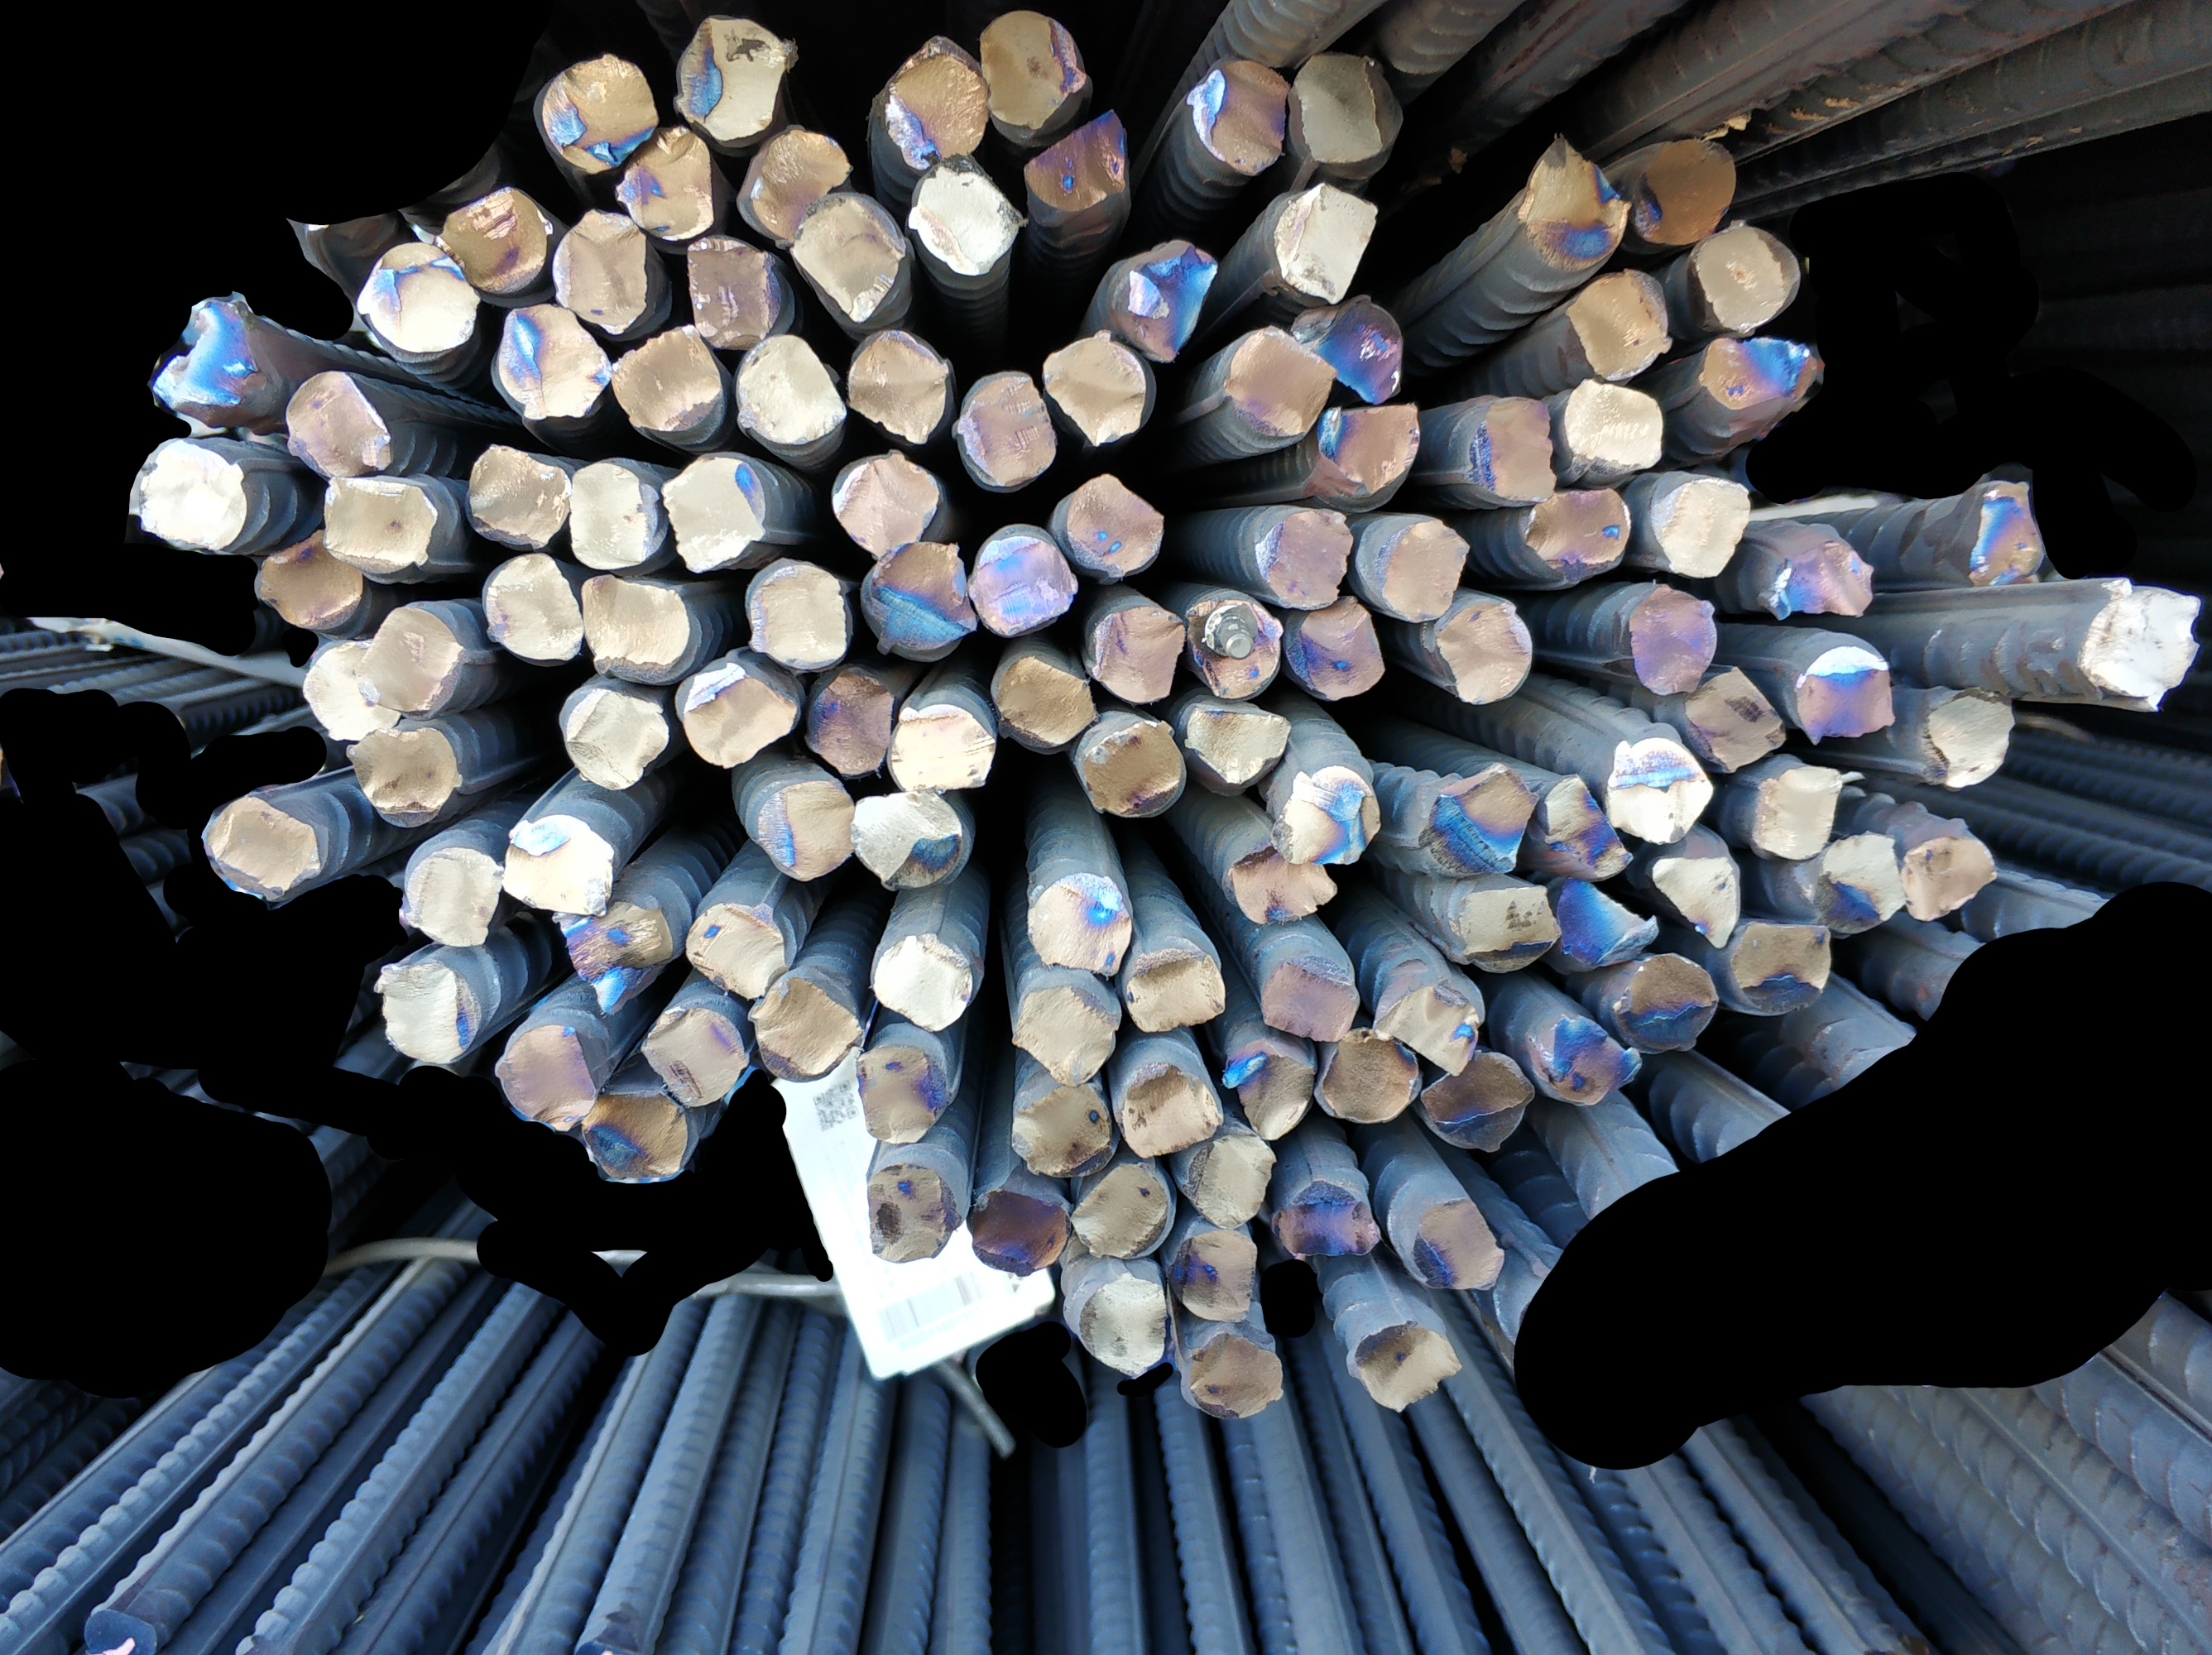rebar: (148, 283, 278, 419), (1519, 127, 1635, 276), (785, 189, 905, 325), (353, 240, 485, 362), (539, 50, 662, 177), (130, 436, 255, 560), (911, 155, 1027, 287), (2080, 579, 2200, 706), (653, 450, 773, 575), (198, 789, 325, 906), (1289, 40, 1406, 167), (977, 5, 1089, 134), (549, 200, 657, 334), (679, 655, 798, 777), (554, 894, 671, 1017), (1265, 177, 1380, 302), (884, 33, 987, 170), (495, 299, 610, 421), (1286, 289, 1407, 403), (954, 365, 1062, 494), (836, 323, 949, 445), (1112, 240, 1218, 369), (349, 600, 466, 716), (1039, 327, 1149, 450), (606, 322, 723, 436), (754, 967, 865, 1087), (848, 789, 970, 899), (679, 16, 787, 139), (1222, 322, 1333, 440), (613, 122, 721, 243), (1628, 130, 1741, 245), (579, 567, 695, 678), (370, 958, 488, 1067), (867, 537, 977, 655), (1025, 108, 1138, 221), (1694, 224, 1809, 336), (1432, 593, 1543, 708), (1425, 763, 1534, 880), (1192, 56, 1293, 181), (285, 367, 394, 482), (502, 812, 617, 921), (1602, 732, 1712, 847), (480, 548, 587, 664), (490, 1020, 598, 1137), (1418, 1045, 1527, 1158), (320, 466, 434, 574), (968, 525, 1076, 640), (738, 332, 844, 449), (346, 728, 464, 833), (751, 125, 850, 249), (825, 445, 937, 555), (1623, 582, 1727, 699), (1786, 643, 1903, 748), (561, 683, 671, 793), (1279, 588, 1388, 697), (1569, 269, 1677, 381), (248, 527, 361, 633), (563, 459, 666, 575), (1183, 586, 1286, 702), (681, 231, 778, 353), (301, 640, 410, 748), (438, 186, 547, 294), (1406, 1189, 1513, 1299), (467, 440, 573, 551), (681, 901, 792, 1007), (749, 562, 855, 673), (1348, 1319, 1465, 1420), (1062, 473, 1168, 582), (1013, 982, 1124, 1087), (394, 845, 502, 951), (639, 1003, 745, 1111), (1272, 765, 1381, 869), (1684, 668, 1793, 772), (1463, 396, 1564, 509), (1607, 949, 1715, 1053), (1258, 501, 1359, 612), (1373, 972, 1486, 1071), (1531, 1012, 1646, 1109), (1534, 774, 1639, 880), (1922, 688, 2024, 796), (992, 654, 1102, 754), (1724, 918, 1835, 1017), (1027, 873, 1133, 975), (1809, 829, 1908, 939), (1182, 694, 1293, 791), (864, 1158, 957, 1273), (805, 668, 897, 784), (1520, 483, 1637, 575), (871, 932, 975, 1034), (1069, 1163, 1173, 1266), (582, 1087, 690, 1186), (1745, 761, 1847, 864), (1119, 1059, 1223, 1160), (1560, 379, 1670, 475), (1646, 843, 1739, 954), (1011, 1080, 1116, 1179), (1185, 1326, 1289, 1426), (1769, 528, 1877, 624), (1699, 334, 1828, 414), (1074, 1273, 1168, 1382), (758, 779, 855, 883), (888, 699, 992, 796), (1229, 838, 1341, 927), (1079, 721, 1178, 822), (853, 1043, 949, 1147), (964, 1182, 1069, 1278), (1649, 475, 1745, 579), (1376, 518, 1470, 624), (1121, 946, 1229, 1038), (1319, 1027, 1416, 1128), (1317, 395, 1420, 490), (1458, 881, 1560, 977), (1091, 603, 1185, 708), (1552, 878, 1656, 972), (1903, 826, 2000, 923), (1223, 1045, 1317, 1146), (1260, 958, 1361, 1050), (1274, 1175, 1385, 1257), (1969, 482, 2049, 593), (1175, 1224, 1255, 1328), (1192, 1128, 1267, 1229)
